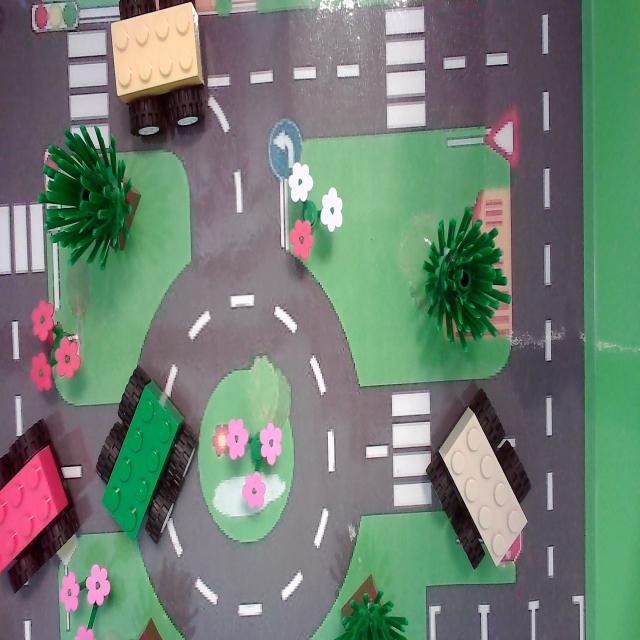Car: (422, 383, 536, 574), (93, 372, 201, 545), (108, 0, 212, 145), (0, 405, 77, 593)
Flower: (282, 151, 347, 267), (222, 411, 288, 506), (25, 299, 85, 393), (61, 555, 116, 640)
Tree: (36, 119, 144, 267), (421, 194, 510, 362), (328, 569, 416, 640)
